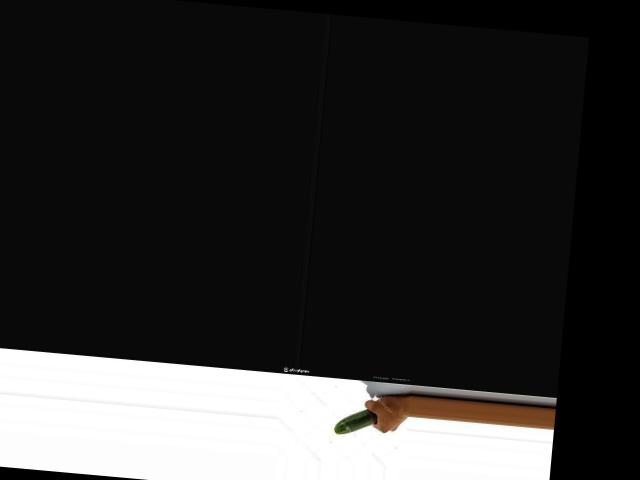cucumber: (334, 406, 378, 437)
